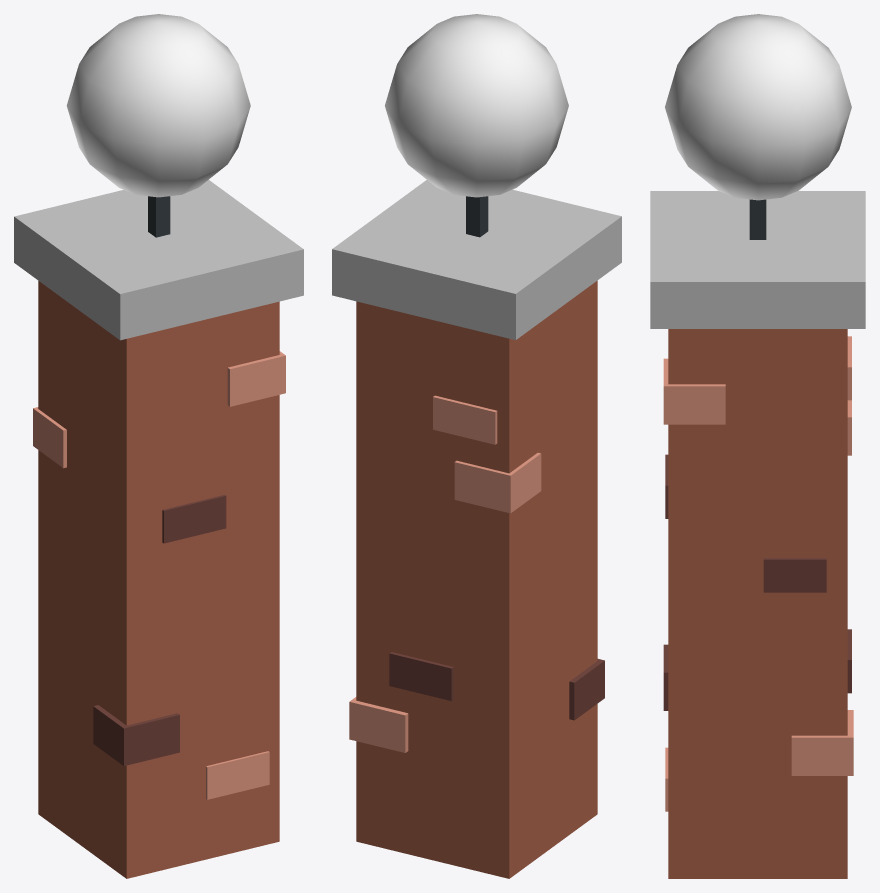
File: wqzz.FBX
The picture shows the model from 3 angles, left to right: view 1: azimuth 30°, elevation 25°; view 2: azimuth 150°, elevation 25°; view 3: azimuth 270°, elevation 25°; orthographic projection.
Visible parts, largest first — view 1: wqzz; view 2: wqzz; view 3: wqzz.
Boxes of the visible parts, <box> form: wqzz: <box>14,14,303,878</box>; wqzz: <box>332,14,621,878</box>; wqzz: <box>650,14,865,878</box>.
Size of the model in its own units: 47.47 by 199 by 47.47.
